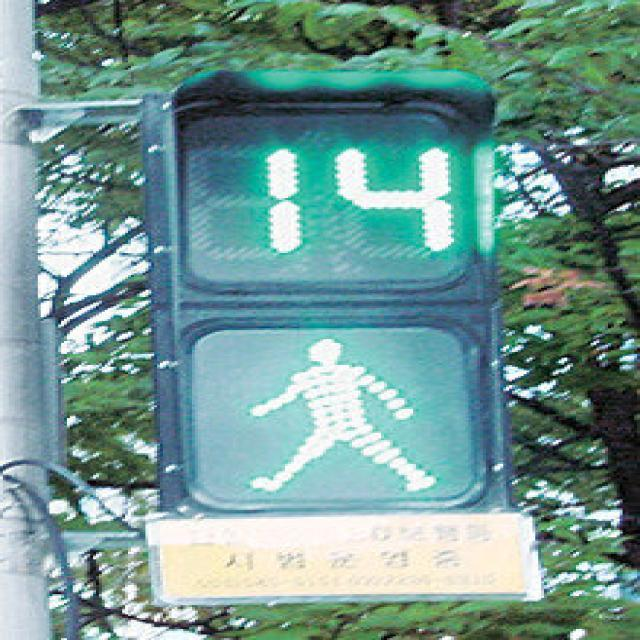green_light: (196, 114, 480, 504)
